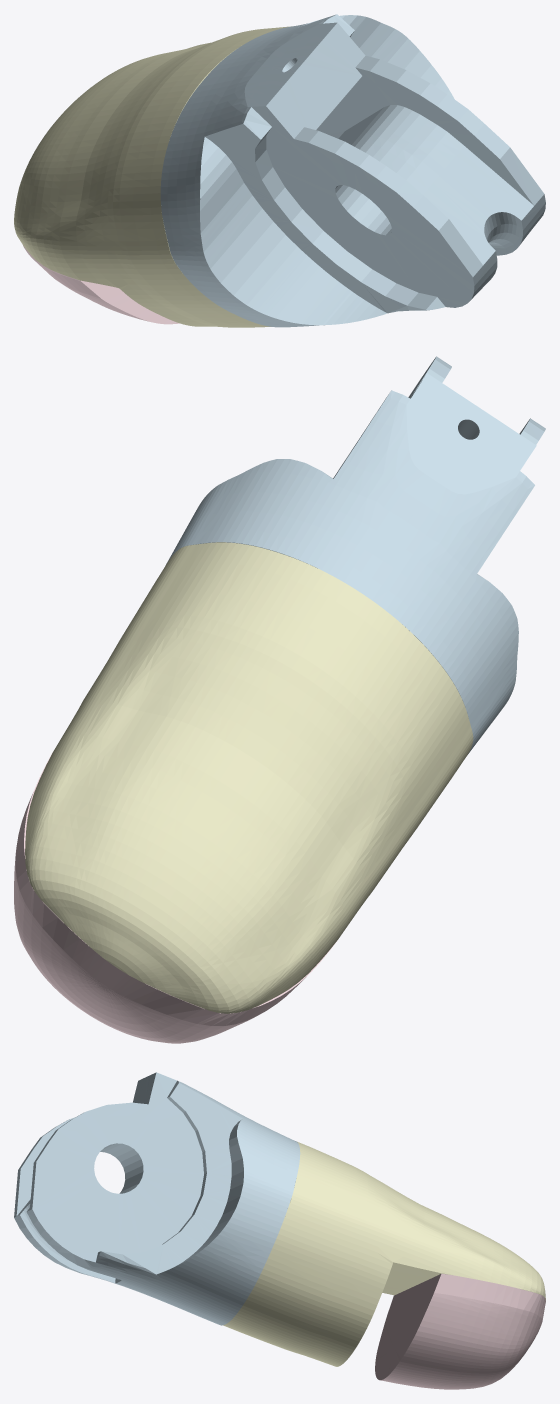
File: i02_rightHand_majeureTip_visual.obj.full.glb
3 views of the same model, one above another, from view 1: azimuth 30°, elevation 25°; view 2: azimuth 150°, elevation 25°; view 3: azimuth 270°, elevation 25° (orthographic). The views are drawn at different scales.
Bounding box in the file's own units: 0.158 × 0.2378 × 0.3769.
